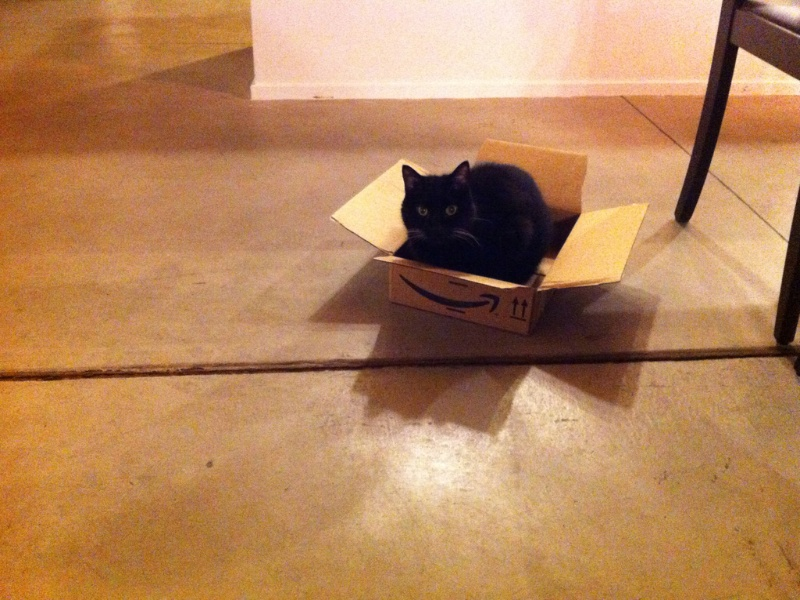cat: (394, 158, 561, 278)
